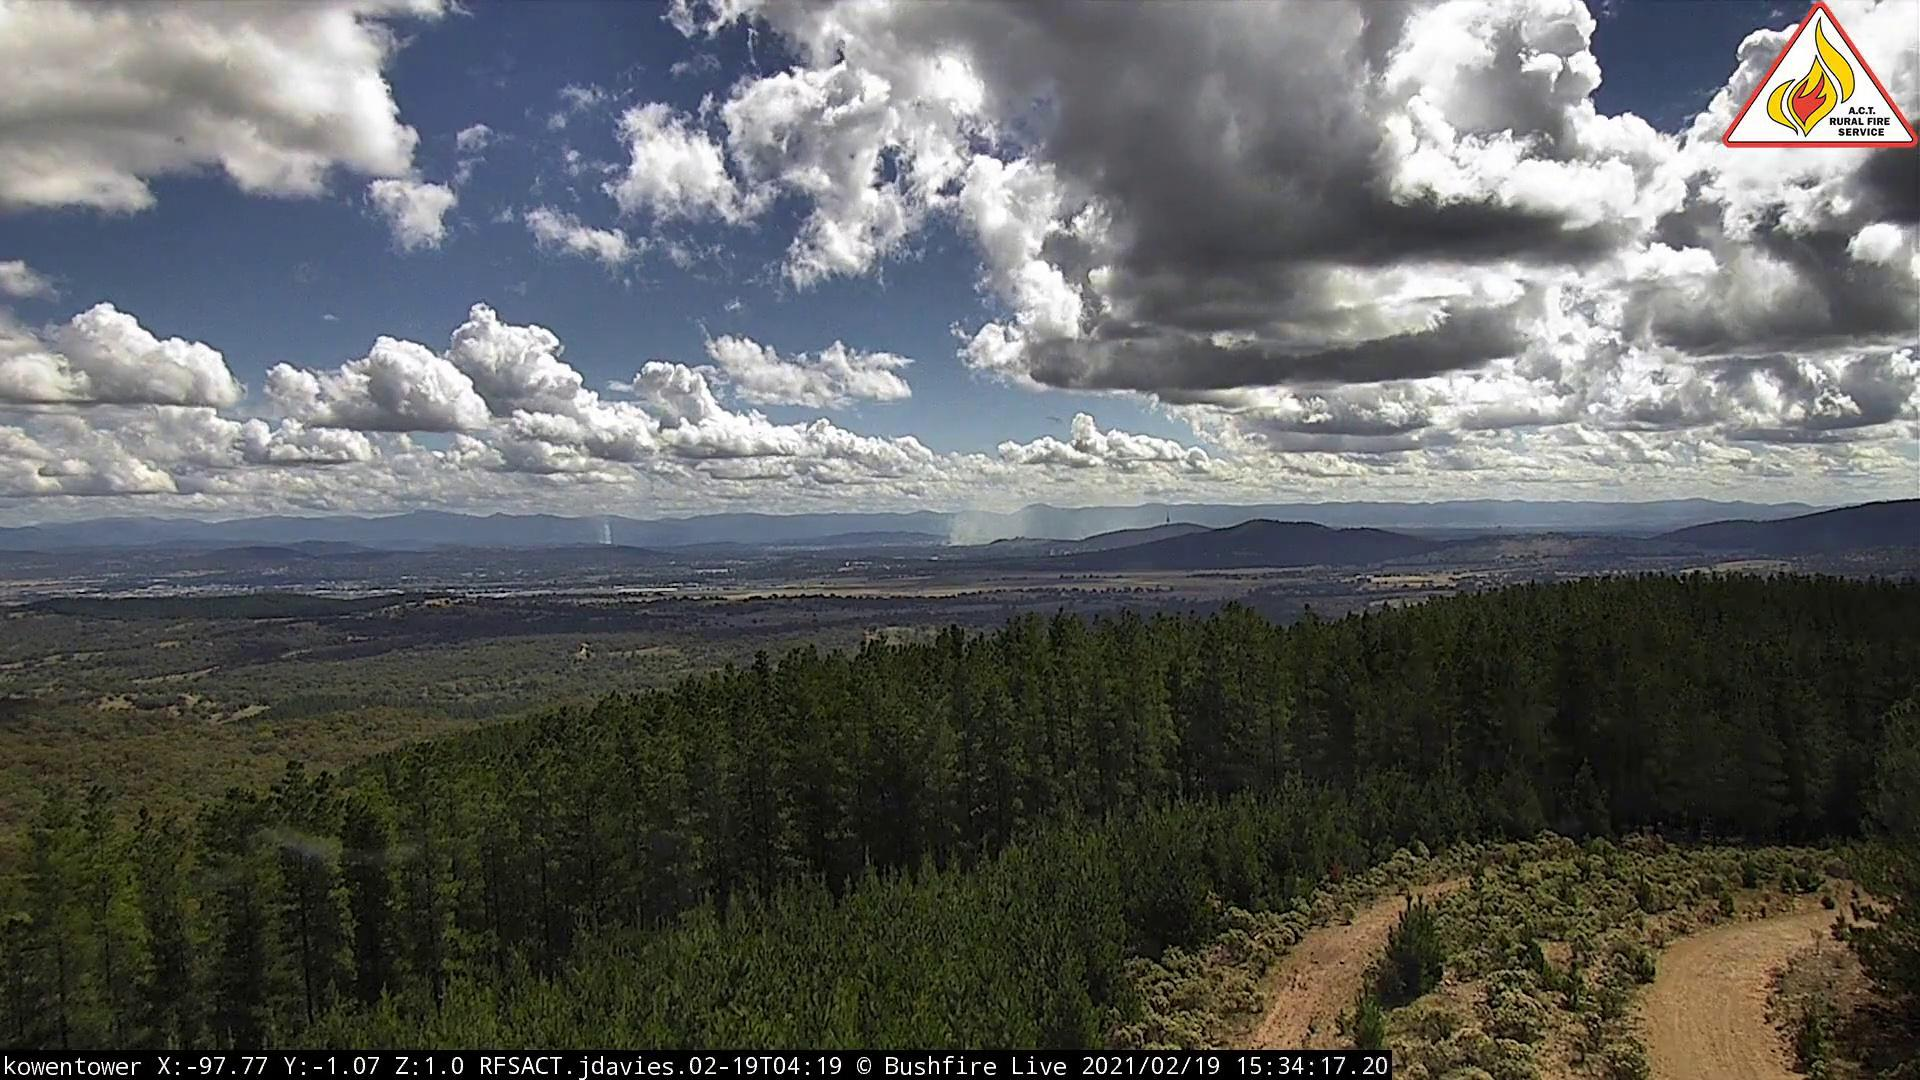Smoke: (944, 491, 1048, 551), (600, 525, 622, 554)
